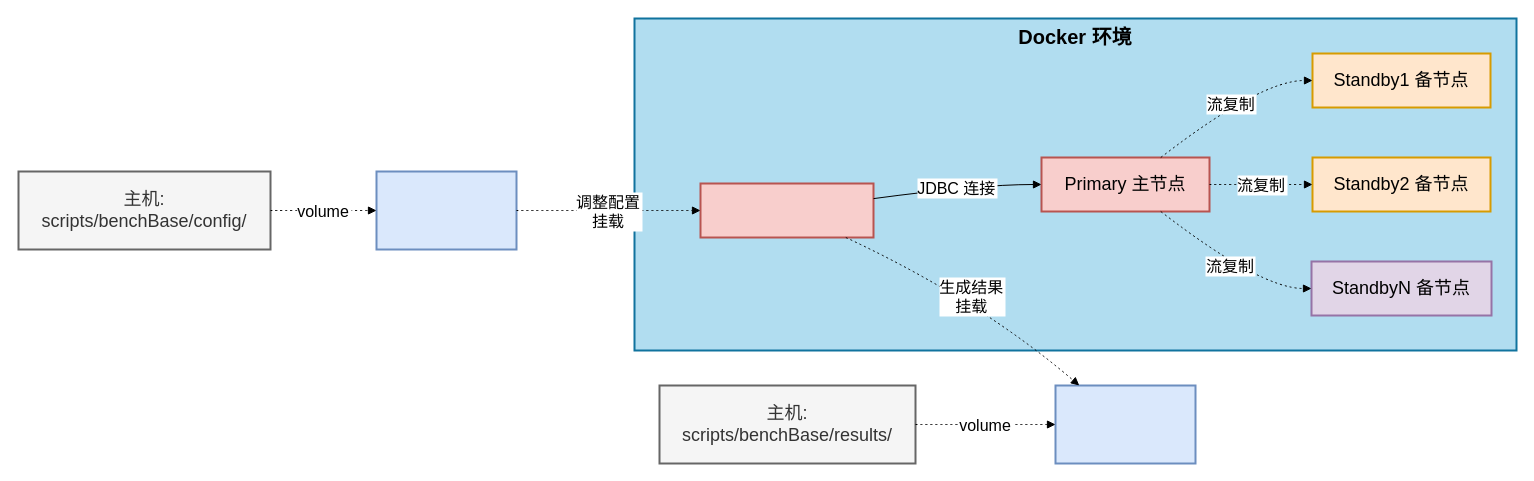
Image size: 1534x481. Some labels were removed from this diagram. Each missing label, with the centre of its shape:
BenchBase 容器: the point at 786,210
config/ 配置文件夹: the point at 446,210
results/ 结果文件夹: the point at 1125,424
